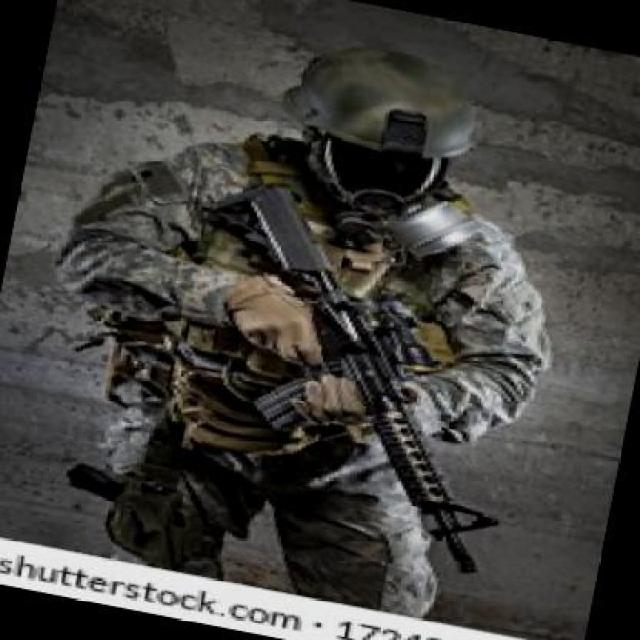MIL_Pax: (4, 0, 601, 635)
